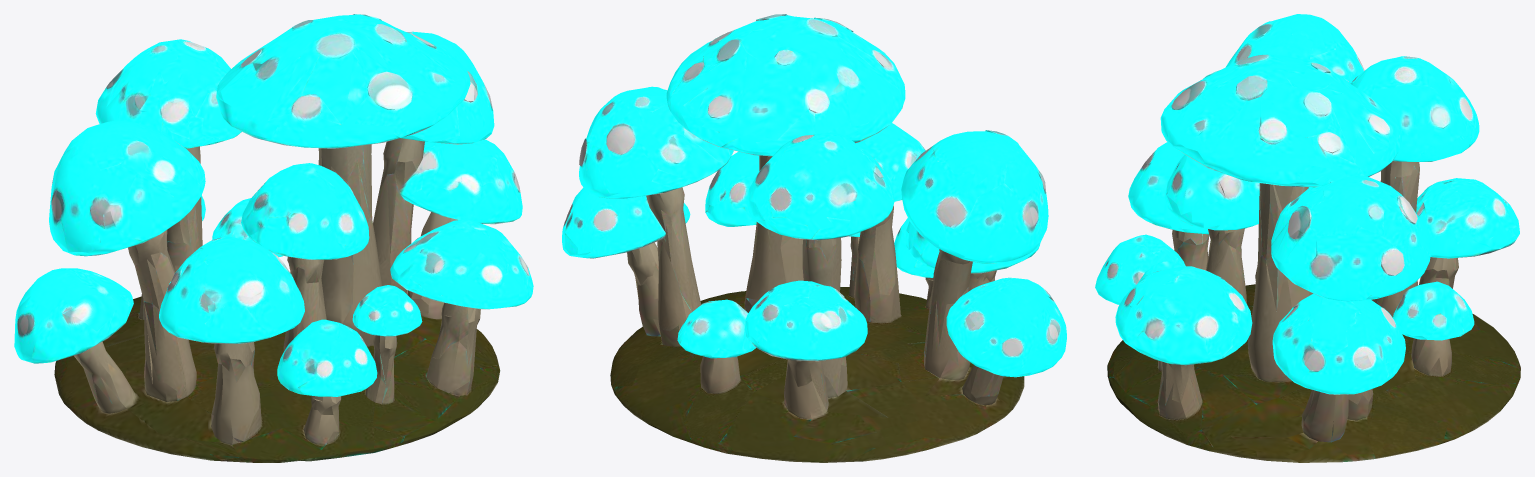
Rendered from nat-mushrooms.glb.
3 renders of one model, left to right at view 1: azimuth 30°, elevation 25°; view 2: azimuth 150°, elevation 25°; view 3: azimuth 270°, elevation 25°, orthographic. The views are drawn at different scales.
Size of the model in its own units: 1.9 by 1.25 by 1.46.
Materials: 1 (1 with a texture image).
